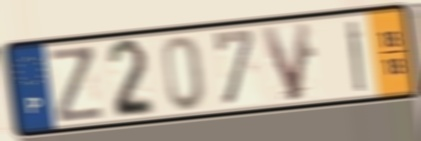0: (159, 32, 208, 114)
2: (105, 37, 158, 124)
7: (211, 27, 257, 110)
I: (344, 18, 367, 95)
V: (257, 19, 314, 104)
Z: (46, 43, 108, 125)
